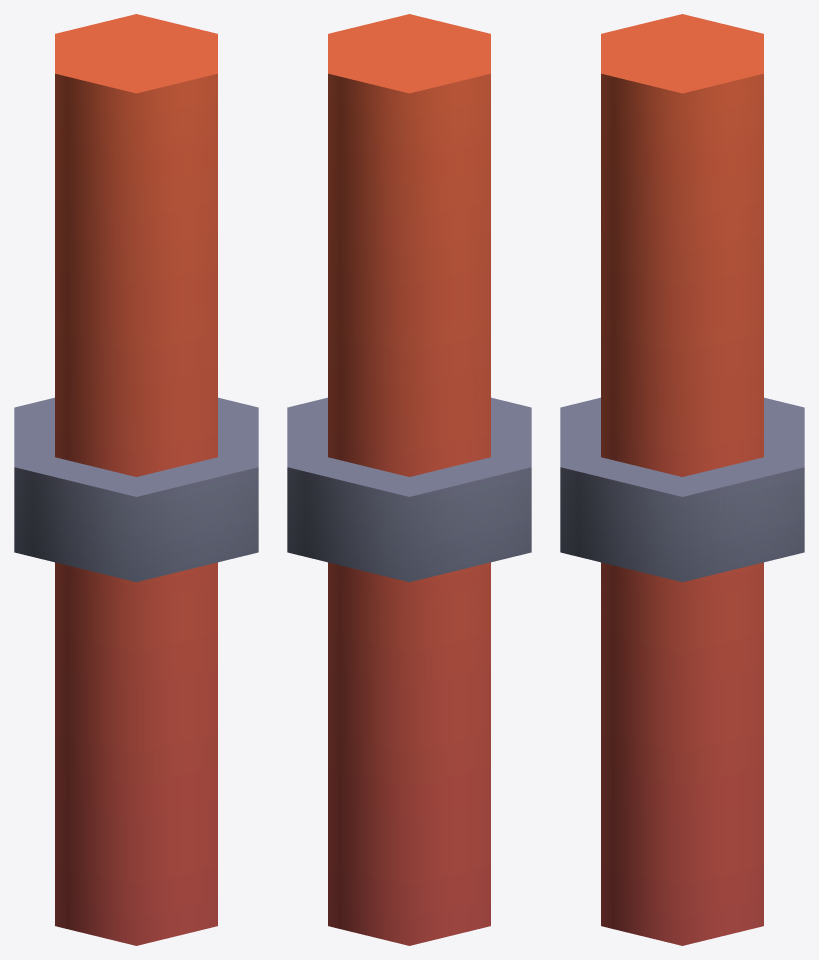
The model's file is pipe-section.glb.
The picture shows the model from 3 angles, left to right: view 1: azimuth 30°, elevation 25°; view 2: azimuth 150°, elevation 25°; view 3: azimuth 270°, elevation 25°; orthographic projection.
Parts seen in each view (by area): view 1: pipe-section; view 2: pipe-section; view 3: pipe-section.
Boxes of the visible parts, x1,y1,x2,y2 form: pipe-section: [14, 14, 258, 945]; pipe-section: [287, 14, 531, 945]; pipe-section: [560, 14, 804, 945].
Bounding box in the file's own units: 0.3 × 1 × 0.2598.
Materials: 1 (1 with a texture image).
